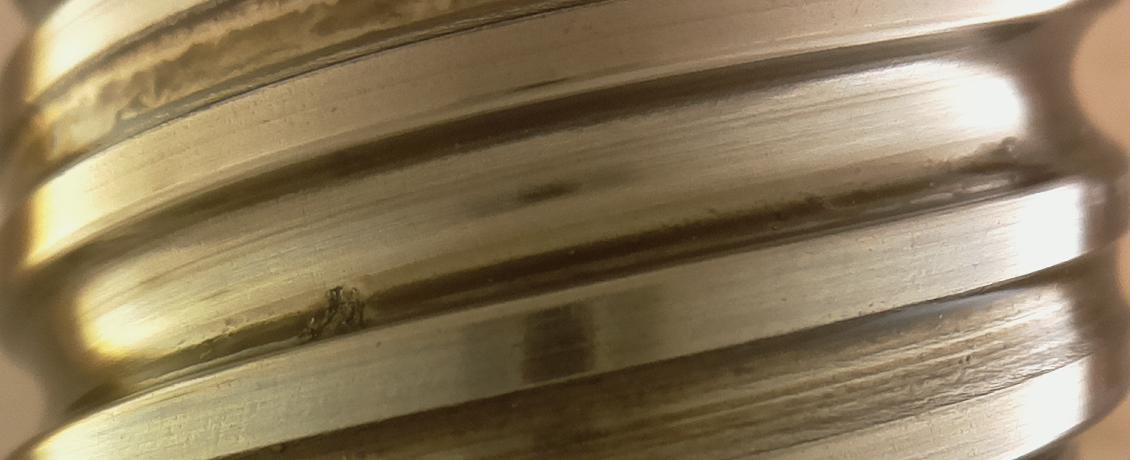pitting: (302, 285, 365, 339)
